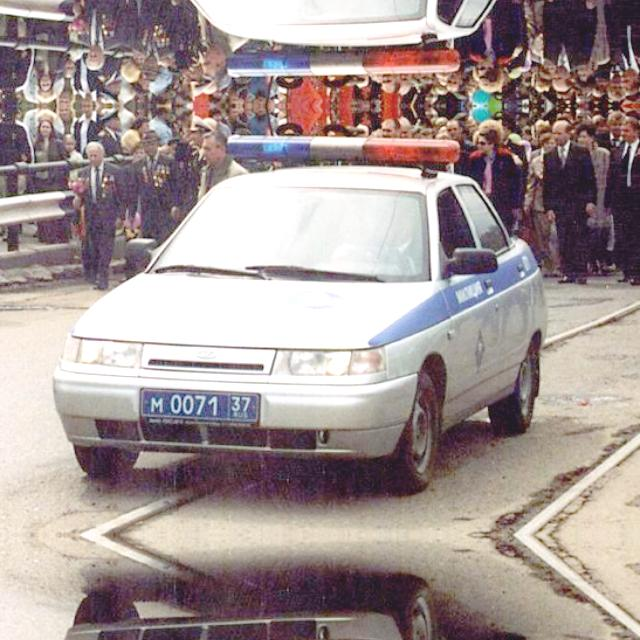police: (140, 386, 262, 428)
